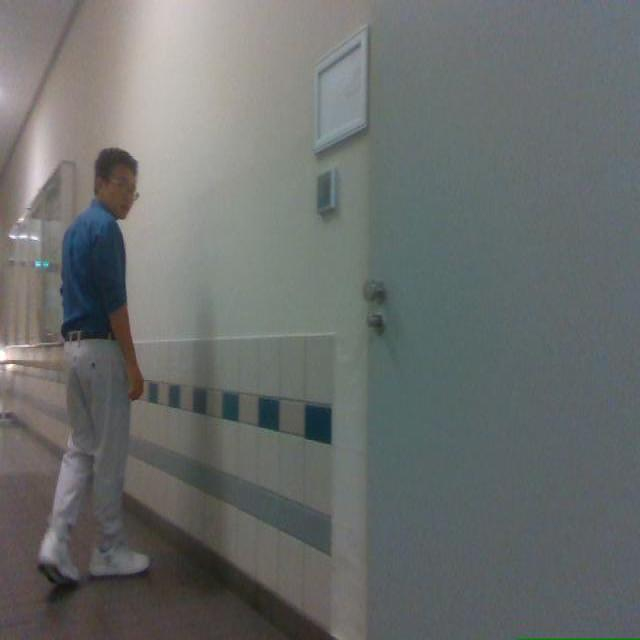humans: (38, 148, 149, 584)
